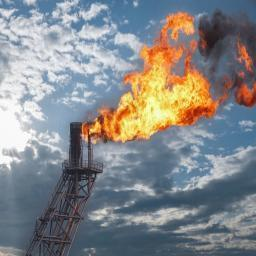fire: (80, 12, 228, 144), (233, 34, 253, 72), (235, 71, 256, 107)
smoke: (197, 8, 256, 99)
